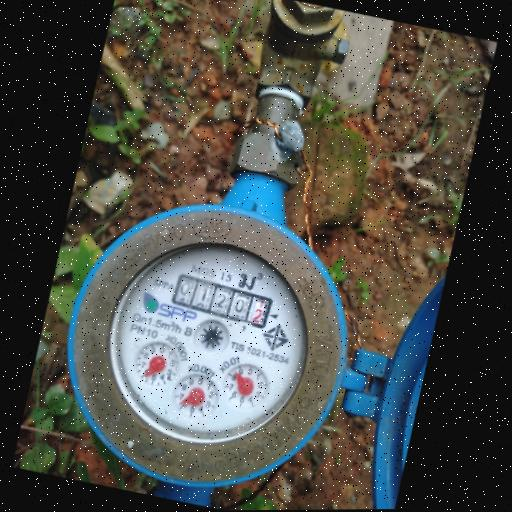0: (174, 276, 193, 303), (229, 292, 248, 319)
1: (194, 282, 213, 310)
2: (211, 287, 229, 313), (250, 297, 267, 324)
border_water_meter_number: (168, 271, 274, 330)
